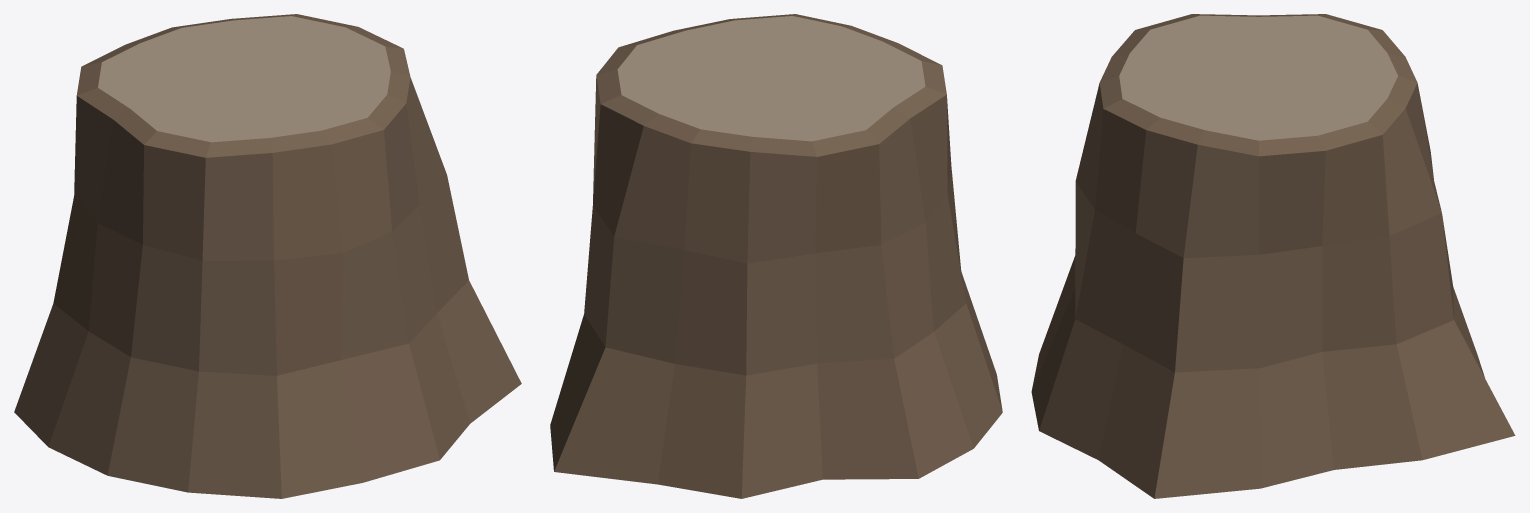
Rendered from Stump.fbx.
3 renders of one model, left to right at view 1: azimuth 30°, elevation 25°; view 2: azimuth 150°, elevation 25°; view 3: azimuth 270°, elevation 25°, orthographic.
Visible parts, largest first — view 1: Cylinder; view 2: Cylinder; view 3: Cylinder.
Part boxes in pixels (bbox=[...]): Cylinder: bbox=[14, 14, 521, 498]; Cylinder: bbox=[550, 14, 1002, 498]; Cylinder: bbox=[1031, 14, 1515, 498].
Bounding box in the file's own units: 55.08 × 40 × 55.26.
